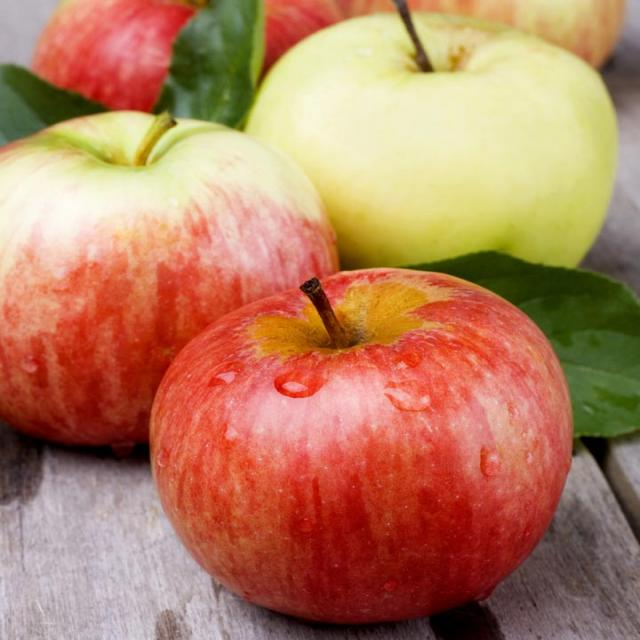apple: (144, 259, 601, 623), (0, 115, 346, 444), (247, 19, 637, 278)
